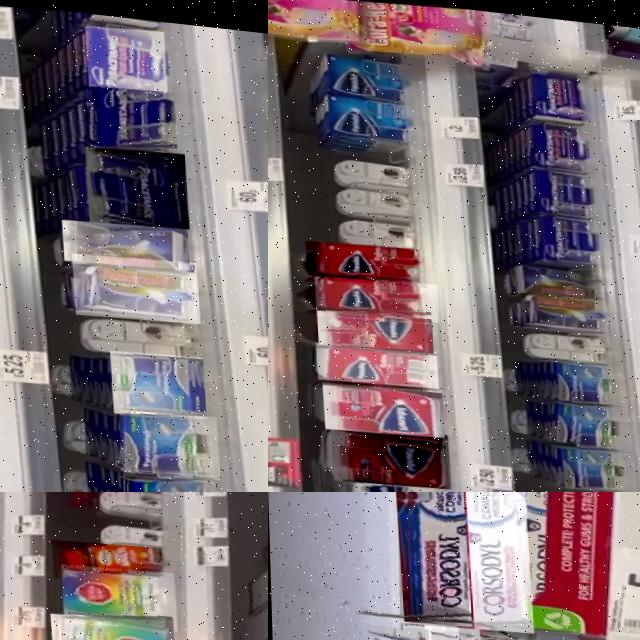Other: (70, 239, 199, 315), (84, 133, 188, 220), (327, 415, 450, 484), (59, 553, 176, 625), (319, 370, 443, 433), (116, 396, 217, 470), (107, 335, 204, 410), (60, 206, 188, 262), (84, 72, 177, 148), (312, 265, 437, 318), (313, 332, 436, 384), (303, 231, 424, 283), (85, 13, 169, 85), (50, 529, 162, 580), (314, 300, 431, 348), (315, 38, 403, 99), (321, 83, 409, 141), (48, 602, 174, 640), (116, 453, 213, 492), (527, 56, 592, 114), (513, 249, 597, 291), (537, 200, 598, 257), (533, 151, 592, 208), (525, 281, 601, 325), (558, 388, 622, 440), (525, 107, 586, 158), (560, 430, 615, 485), (557, 344, 612, 398), (341, 469, 446, 492)
Toothpaste: (394, 492, 470, 622), (464, 492, 532, 627)
